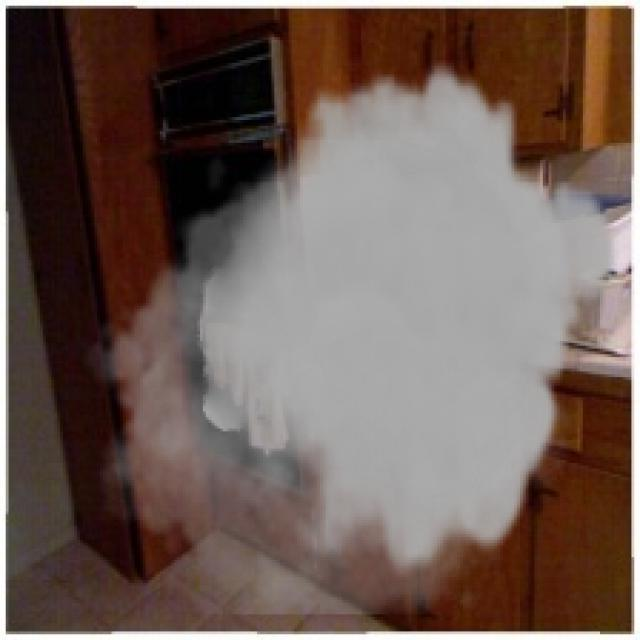Smoke: (83, 60, 620, 614)
